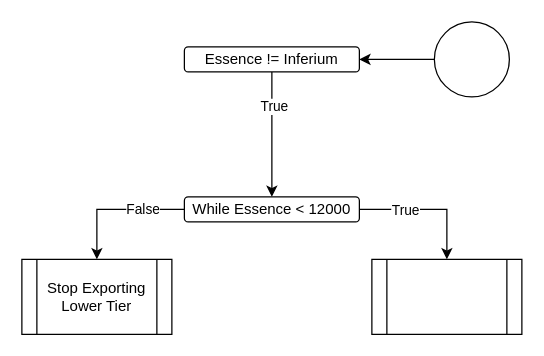
This 544x356 diagram has some shape labels left out. The shapes that lost their labels are listed below. From the top down, each one's box as (x1, y1, x2, y2) in pixels, then its label:
(433, 21, 509, 97): Essence
(371, 258, 522, 334): Continue Exporting Lower Tier
